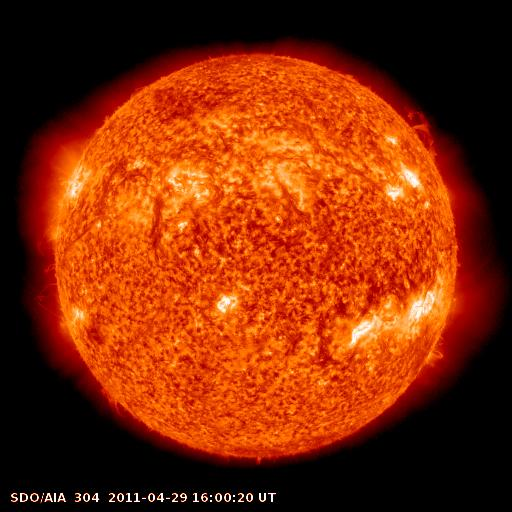prominence: (400, 101, 443, 163)
